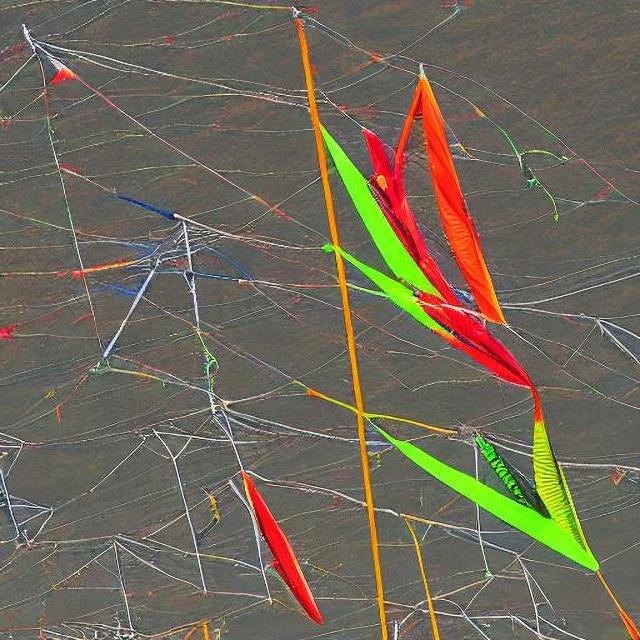floating object: (316, 55, 588, 575), (339, 68, 528, 406), (235, 463, 322, 621), (522, 176, 560, 222), (47, 58, 78, 94), (199, 484, 221, 534), (36, 390, 62, 422)
